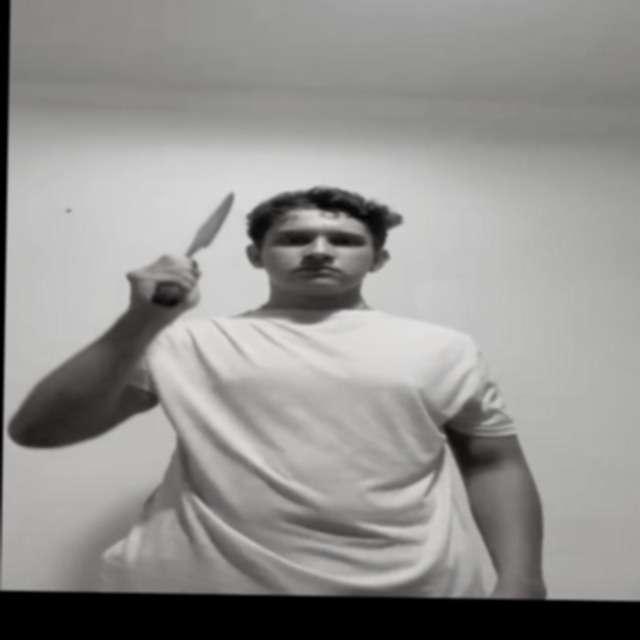Sharp-Object: (190, 192, 241, 252)
